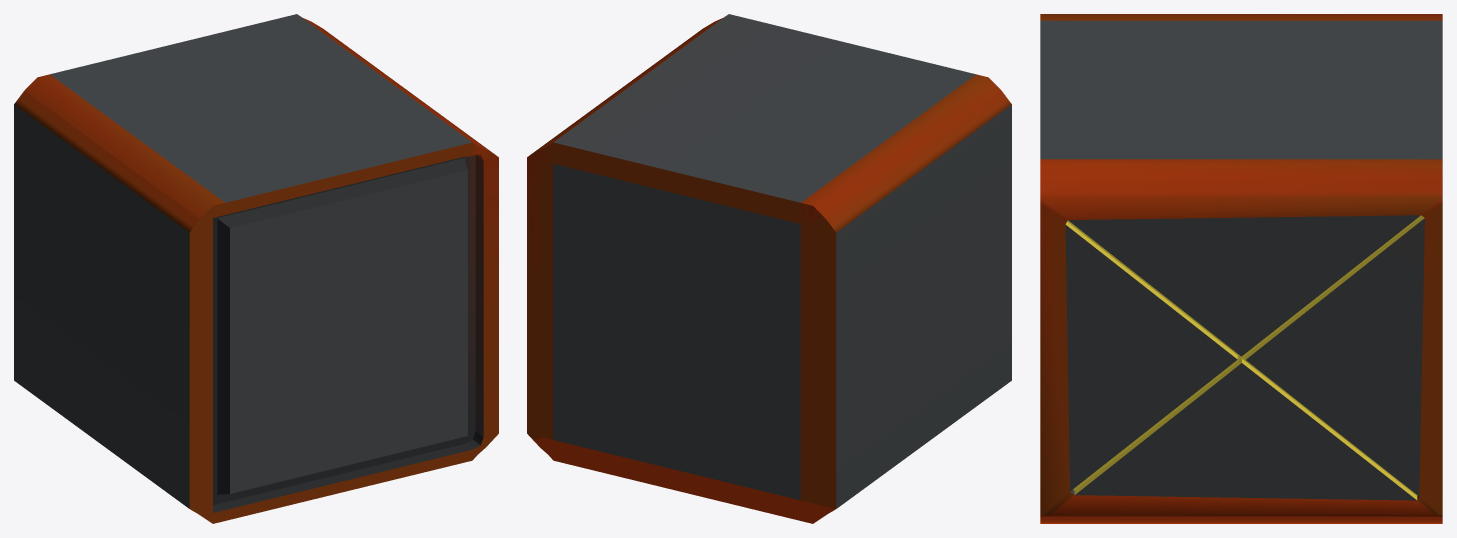
The model's file is Prop_box01.fbx.
3 views of the same model, side by side, from view 1: azimuth 30°, elevation 25°; view 2: azimuth 150°, elevation 25°; view 3: azimuth 270°, elevation 25° (orthographic). The views are drawn at different scales.
Parts seen in each view (by area): view 1: crate1; view 2: crate1; view 3: crate1.
Boxes of the visible parts, <box> form: crate1: <box>14,14,498,523</box>; crate1: <box>527,14,1011,523</box>; crate1: <box>1040,14,1442,523</box>.
Size of the model in its own units: 2.08 by 2.04 by 2.04.
